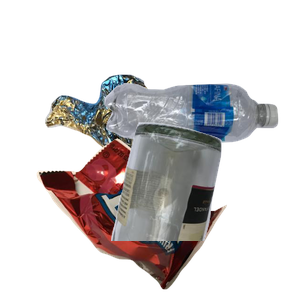glass: (109, 120, 300, 300)
metal: (42, 72, 239, 229)
plastic: (102, 81, 300, 216)
trash: (34, 136, 253, 300)
